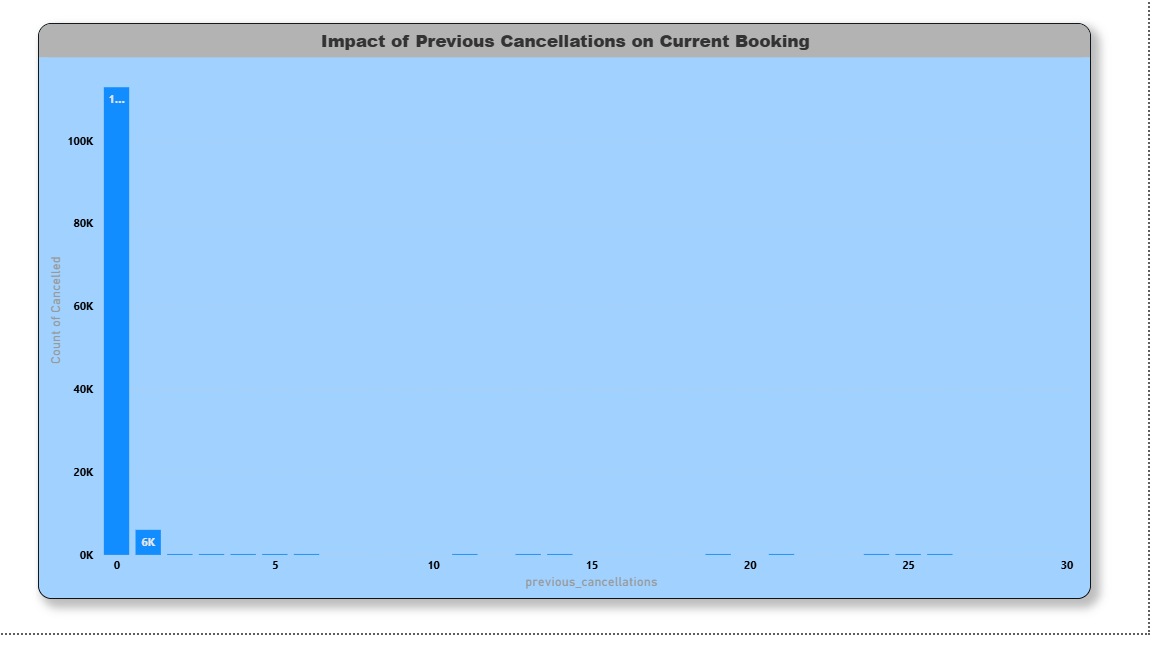

The dashboard page shown, as its layout file describes it:
{"tool":"powerbi","page":{"name":"Repeat Cancellers Behavior","canvas":[1280,720],"ordinal":3},"visuals":[{"type":"columnChart","title":"Impact of Previous Cancellations on Current Booking","fields":{"Category":["hotel_bookings.previous_cancellations"],"Y":["CountNonNull(hotel_bookings.Cancelled)"]},"box":[46.7,42.2,1170,640],"z":0}]}

Visuals, with their boxes in screenshot pixels (x1, y1, x2, y2), scaled from the page's 1280x720 canvas onto the 1175x645 screenshot:
"Impact of Previous Cancellations on Current Booking" columnChart: (left=43, top=38, right=1117, bottom=611)
